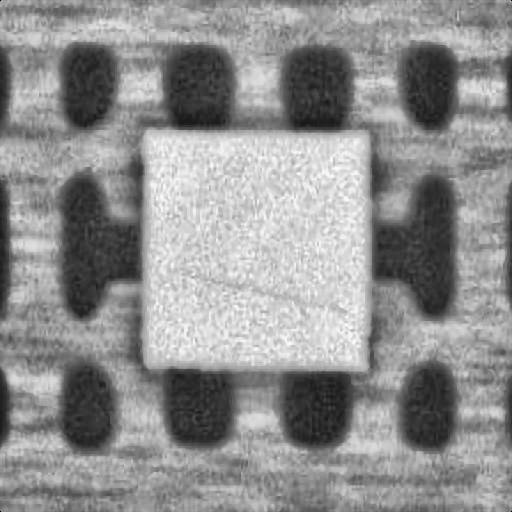DIE_CRACK: (273, 182, 512, 206)
